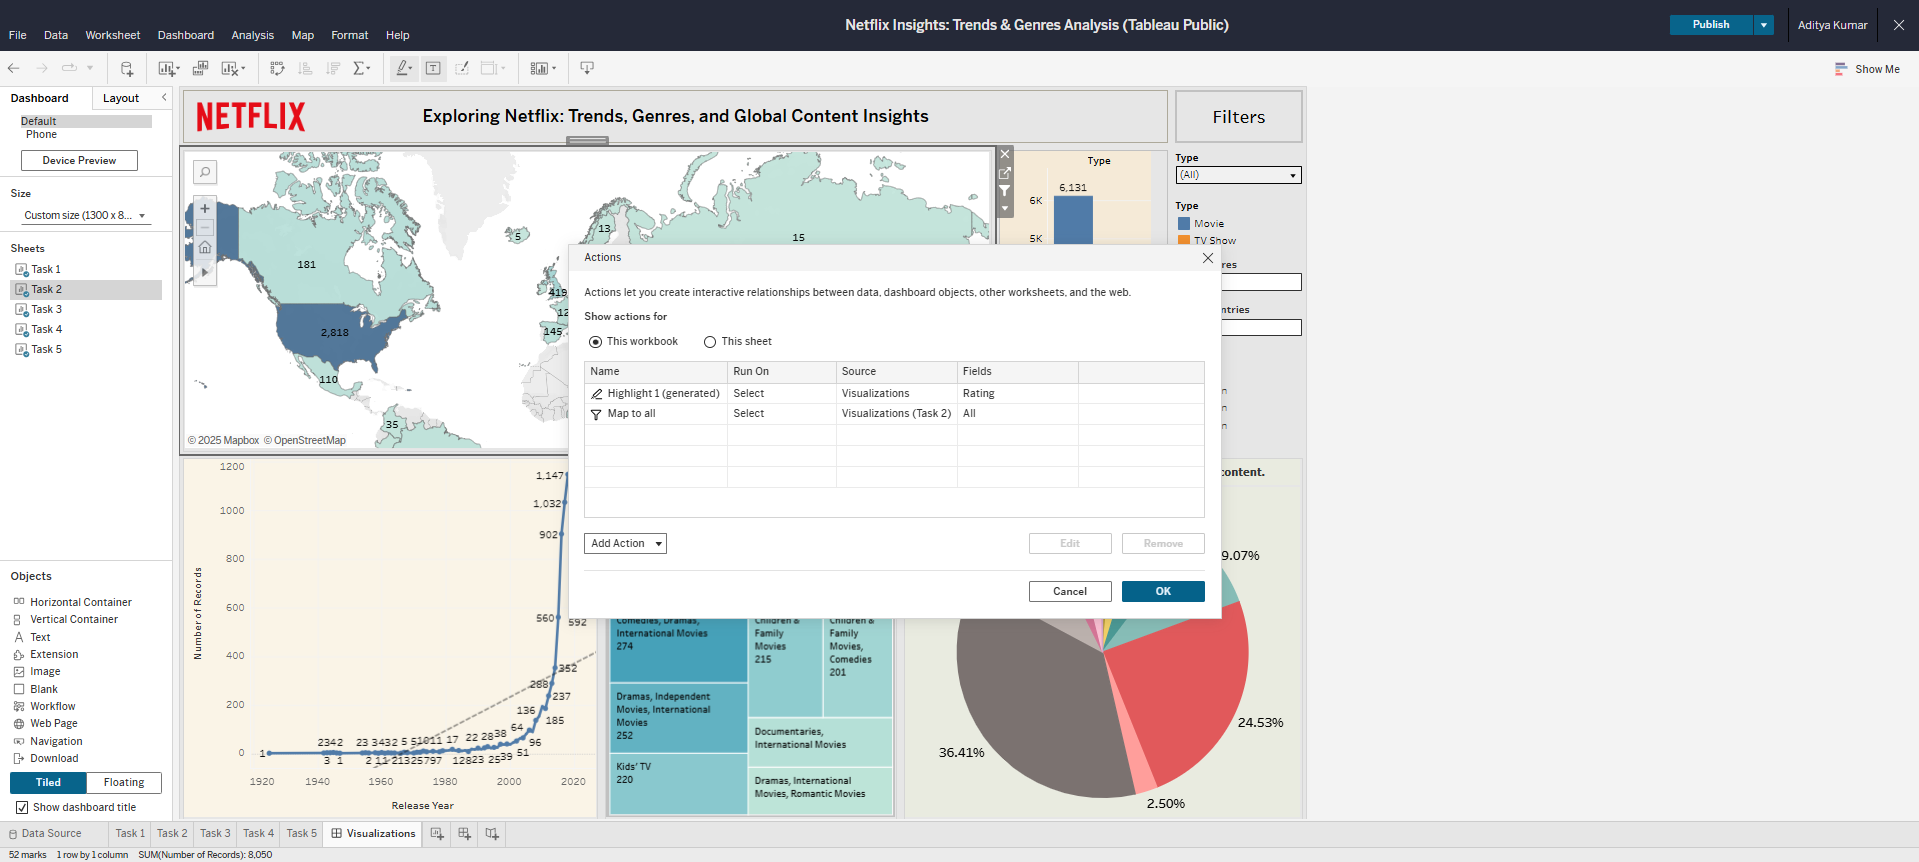

This screenshot's page, from the dashboard's own definition file:
{"tool":"tableau","page":{"name":"Visualizations","canvas":[1300,850],"ordinal":0},"visuals":[{"type":"title","box":[0,0,1145,68.9]},{"type":"text","box":[1145,0,155,69]},{"type":"image","param":"Image/pngwing.com.png","box":[14,13,156,45]},{"type":"worksheet","title":"Task 2","mark":"Automatic","box":[0,68.9,942,356.1]},{"type":"worksheet","title":"Task 1","mark":"Automatic","rows":["Number of Records"],"cols":["type"],"box":[942,68.9,203,356.1]},{"type":"filter","title":"Task 1","param":"[federated.1lep57e1gd853m1ab8yal0j08sym].[none:type:nk]","box":[1145,69,155,61]},{"type":"legend","title":"Task 1","param":"[federated.1lep57e1gd853m1ab8yal0j08sym].[none:type:nk]","box":[1145,130,155,72]},{"type":"parameter","param":"[Parameters].[Parameter 2]","box":[1145,202,155,56]},{"type":"parameter","param":"[Parameters].[Parameter 1]","box":[1145,258,155,56]},{"type":"legend","title":"Task 5","param":"[federated.1lep57e1gd853m1ab8yal0j08sym].[none:rating:nk]","box":[1145,314,155,111]},{"type":"worksheet","title":"Task 4","mark":"Automatic","rows":["Number of Records"],"cols":["release_year"],"box":[0,425,487,425]},{"type":"worksheet","title":"Task 3","mark":"Automatic","box":[487,425,345,425]},{"type":"worksheet","title":"Task 5","mark":"Pie","box":[832,425,468,425]}]}

Visuals, with their boxes on the page's 1300x850 design canvas (x1, y1, x2, y2). These are canvas units, not pixel positions in the 1919x862 screenshot, which may show the page scaled, cropped or inside an application window:
title: 0,0,1145,69
text: 1145,0,1300,69
image: 14,13,170,58
"Task 2" worksheet: 0,69,942,425
"Task 1" worksheet: 942,69,1145,425
"Task 1" filter: 1145,69,1300,130
"Task 1" legend: 1145,130,1300,202
parameter: 1145,202,1300,258
parameter: 1145,258,1300,314
"Task 5" legend: 1145,314,1300,425
"Task 4" worksheet: 0,425,487,850
"Task 3" worksheet: 487,425,832,850
"Task 5" worksheet (Pie marks): 832,425,1300,850
